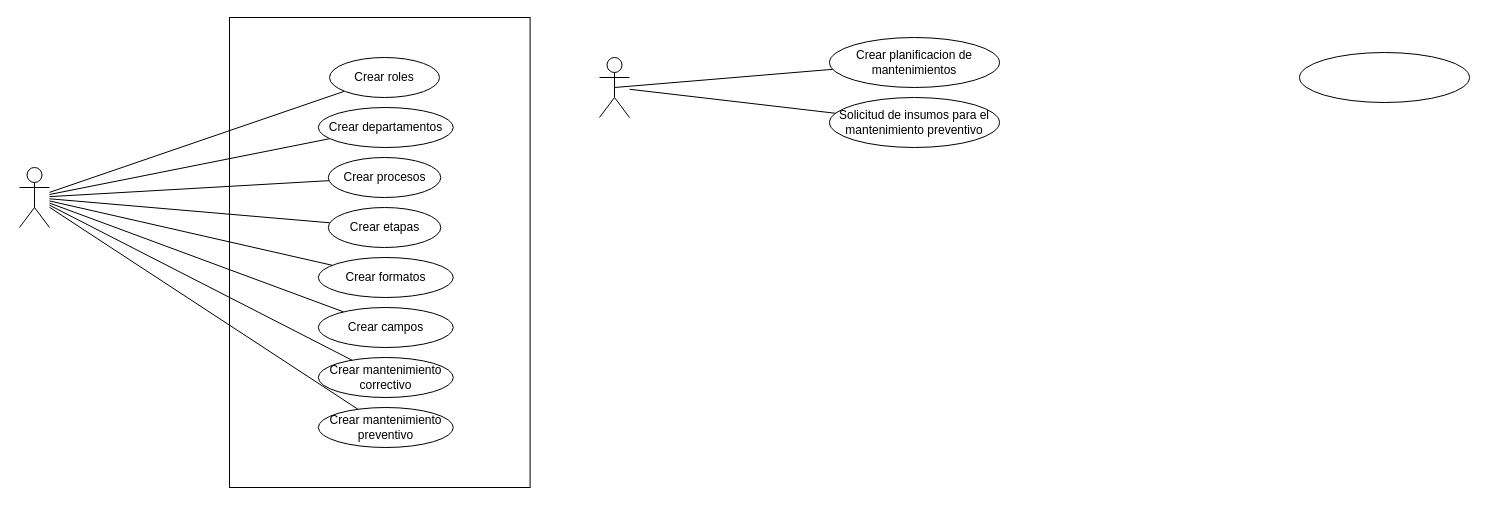
Image size: 1487x505. Some labels were removed from this diagram. Here are the shapes that lost their labels. From the top down, the centre of each, then its label:
point (614, 87): Coordinador
point (1384, 77): Seleccionar departamento
point (34, 197): Admin
